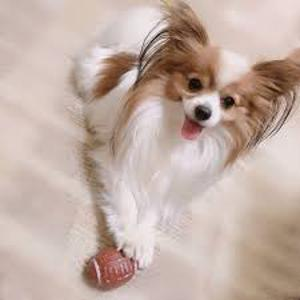yell: (76, 2, 300, 270)
